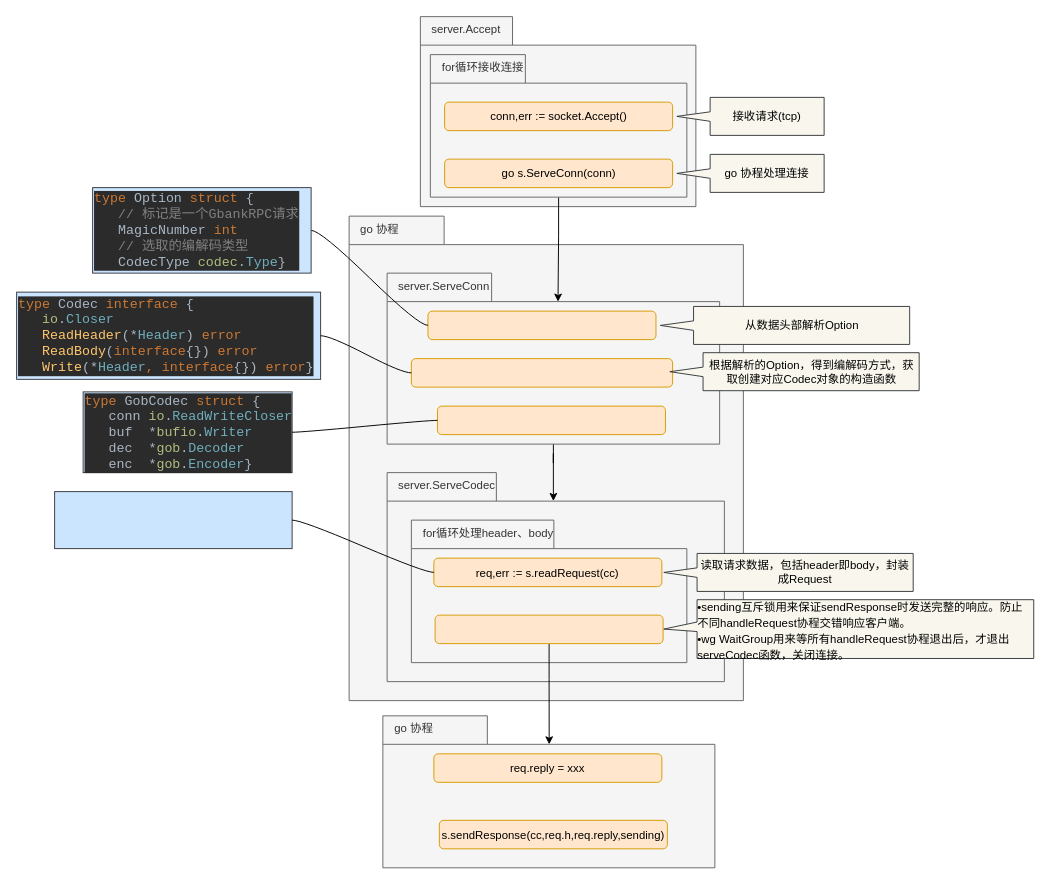
This 1051x884 diagram has some shape labels left out. The centre of each missing label's shape, as x and y in pixels:
f := codec.NewCodecFuncMap[opt.CodecType]: [541,372]
go s.handleRequest(cc,sending,wg,req): [548,629]
json.NewDecoder(conn).Decode(&opt): [541,325]
s.serveCodec(f(conn)): [551,420]
type Request struct { h codec . Header args , reply reflect . Value }: [173,520]
